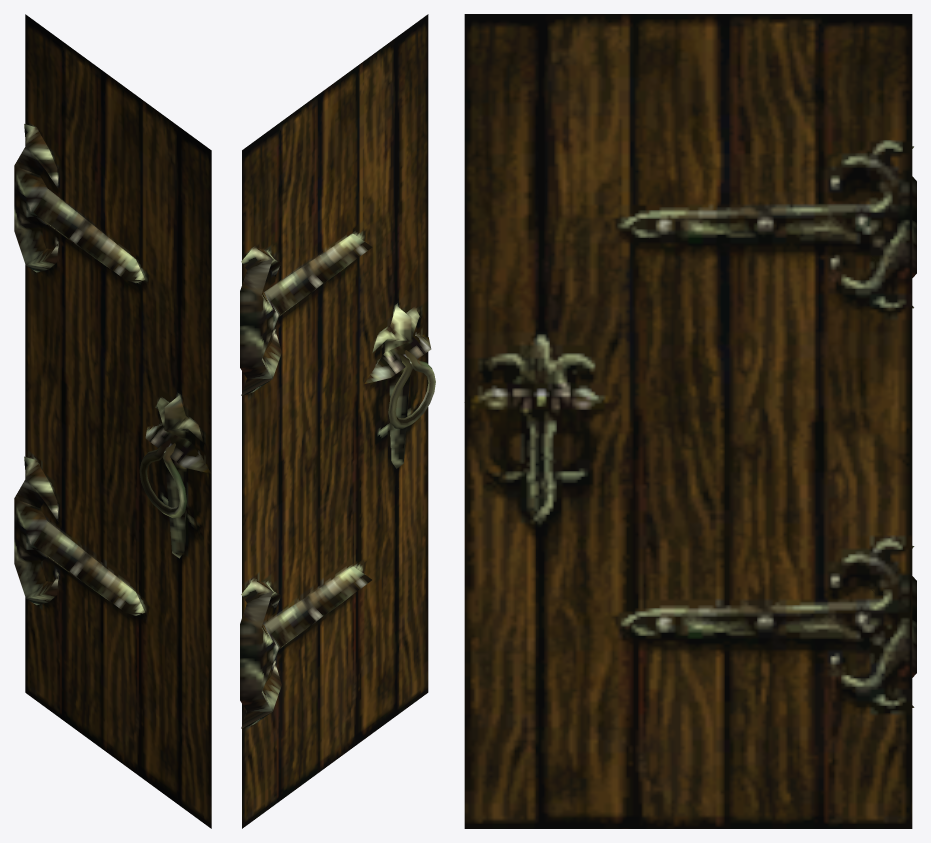
Rendered from INST_LT_DOOR_01.fbx.
The picture shows the model from 3 angles, left to right: view 1: azimuth 30°, elevation 25°; view 2: azimuth 150°, elevation 25°; view 3: azimuth 270°, elevation 25°; orthographic projection. The views are drawn at different scales.
Visible parts, largest first — view 1: INST_LT_DOOR_01; view 2: INST_LT_DOOR_01; view 3: INST_LT_DOOR_01.
Boxes of the visible parts, <box> form: INST_LT_DOOR_01: <box>14,14,211,828</box>; INST_LT_DOOR_01: <box>240,14,435,828</box>; INST_LT_DOOR_01: <box>464,14,916,828</box>.
Bounding box in the file's own units: 700 × 22914 × 11542.
Materials: 1 (1 with a texture image).
